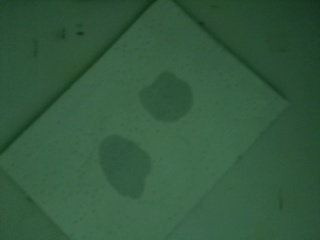Water_detected: (102, 147, 145, 188), (151, 73, 192, 114)
